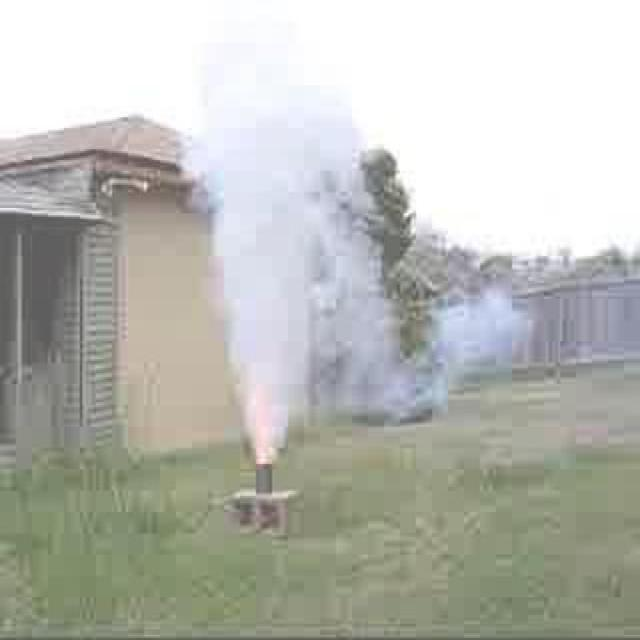Smoke: (177, 35, 536, 467)
